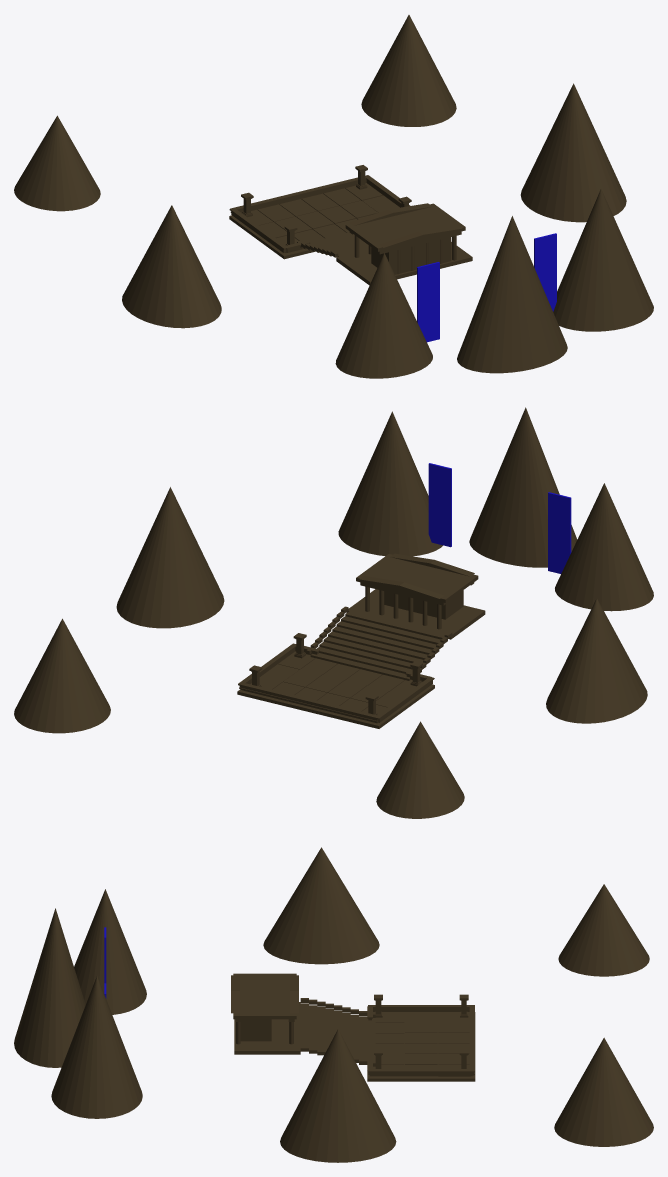
The model's file is ancient_greek_scene.obj.
The picture shows the model from 3 angles, top to bottom: view 1: azimuth 30°, elevation 25°; view 2: azimuth 150°, elevation 25°; view 3: azimuth 270°, elevation 25°; orthographic projection. The views are drawn at different scales.
Parts seen in each view (by area): view 1: BLK_Mountain_Back_Center, BLK_Mountain_Back_Right, BLK_Mountain_Right_Far, BLK_Mountain_Left_Far, BLK_Mountain_Back_Left, BLK_Mountain_Front_Right, BLK_Mountain_Front_Left, TEMPLE_Roof_Block, BLK_Waterfall_Left, TEMPLE_Cella, BLK_Waterfall_Right, TEMPLE_Landing_Platform (+4 smaller); view 2: BLK_Mountain_Right_Far, BLK_Mountain_Back_Right, BLK_Mountain_Back_Center, BLK_Mountain_Left_Far, BLK_Mountain_Back_Left, BLK_Mountain_Front_Right, BLK_Mountain_Front_Left, TEMPLE_Roof_Block, TEMPLE_Landing_Platform, BLK_Waterfall_Right, BLK_Waterfall_Left, PORCH_Platform_Base (+11 smaller); view 3: BLK_Mountain_Right_Far, BLK_Mountain_Left_Far, BLK_Mountain_Back_Right, BLK_Mountain_Back_Center, BLK_Mountain_Front_Right, BLK_Mountain_Front_Left, BLK_Mountain_Back_Left, TEMPLE_Roof_Block, TEMPLE_Landing_Platform, PORCH_Platform_Base, TEMPLE_Cella, PORCH_Trim_Right.
Part boxes in pixels (left/top/right/bottom): BLK_Mountain_Back_Center: left=457, top=216, right=567, bottom=373; BLK_Mountain_Back_Right: left=553, top=189, right=653, bottom=331; BLK_Mountain_Right_Far: left=520, top=83, right=626, bottom=222; BLK_Mountain_Left_Far: left=122, top=205, right=221, bottom=328; BLK_Mountain_Back_Left: left=335, top=253, right=432, bottom=378; BLK_Mountain_Front_Right: left=361, top=15, right=456, bottom=126; BLK_Mountain_Front_Left: left=14, top=115, right=100, bottom=211; TEMPLE_Roof_Block: left=345, top=203, right=465, bottom=251; BLK_Waterfall_Left: left=417, top=262, right=439, bottom=342; TEMPLE_Cella: left=371, top=237, right=451, bottom=274; BLK_Waterfall_Right: left=534, top=233, right=556, bottom=311; TEMPLE_Landing_Platform: left=336, top=242, right=472, bottom=285; BLK_Mountain_Right_Far: left=116, top=487, right=224, bottom=628; BLK_Mountain_Back_Right: left=338, top=411, right=442, bottom=556; BLK_Mountain_Back_Center: left=469, top=407, right=577, bottom=567; BLK_Mountain_Left_Far: left=546, top=598, right=647, bottom=723; BLK_Mountain_Back_Left: left=555, top=483, right=653, bottom=611; BLK_Mountain_Front_Right: left=14, top=618, right=110, bottom=733; BLK_Mountain_Front_Left: left=376, top=721, right=464, bottom=818; TEMPLE_Roof_Block: left=356, top=554, right=478, bottom=602; TEMPLE_Landing_Platform: left=346, top=589, right=485, bottom=639; BLK_Waterfall_Right: left=428, top=463, right=451, bottom=547; BLK_Waterfall_Left: left=548, top=492, right=571, bottom=573; PORCH_Platform_Base: left=237, top=651, right=434, bottom=728; BLK_Mountain_Right_Far: left=280, top=1029, right=396, bottom=1162; BLK_Mountain_Left_Far: left=263, top=847, right=379, bottom=964; BLK_Mountain_Back_Right: left=51, top=976, right=142, bottom=1118; BLK_Mountain_Back_Center: left=14, top=908, right=85, bottom=1067; BLK_Mountain_Front_Right: left=554, top=1037, right=653, bottom=1146; BLK_Mountain_Front_Left: left=558, top=884, right=649, bottom=976; BLK_Mountain_Back_Left: left=74, top=889, right=146, bottom=1014; TEMPLE_Roof_Block: left=233, top=973, right=296, bottom=1019; TEMPLE_Landing_Platform: left=234, top=1002, right=300, bottom=1054; PORCH_Platform_Base: left=367, top=1012, right=475, bottom=1081; TEMPLE_Cella: left=240, top=1019, right=271, bottom=1041; PORCH_Trim_Right: left=369, top=1072, right=472, bottom=1076.
Size of the model in its own units: 67.5 by 18.65 by 77.
